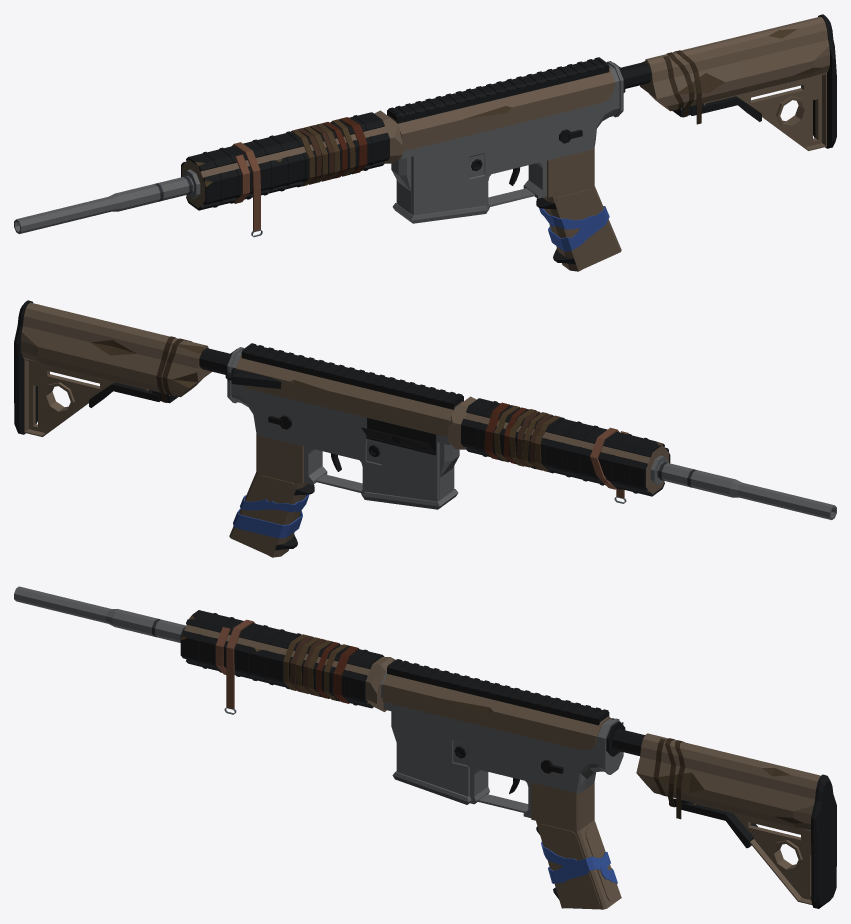
The model's file is Assault_Rifle_5,56_02.gltf.
3 renders of one model, top to bottom at view 1: azimuth 30°, elevation 25°; view 2: azimuth 150°, elevation 25°; view 3: azimuth 330°, elevation 25°, orthographic.
Visible parts, largest first — view 1: Assault_Rifle_5,56_02; view 2: Assault_Rifle_5,56_02, Lid_Gate_02; view 3: Assault_Rifle_5,56_02.
Part boxes in pixels (x1=…): Assault_Rifle_5,56_02: x1=14, y1=14, x2=836, y2=271; Assault_Rifle_5,56_02: x1=14, y1=300, x2=836, y2=557; Lid_Gate_02: x1=361, y1=427, x2=434, y2=452; Assault_Rifle_5,56_02: x1=14, y1=586, x2=836, y2=909.
Size of the model in its own units: 0.9159 by 0.2156 by 0.059.
